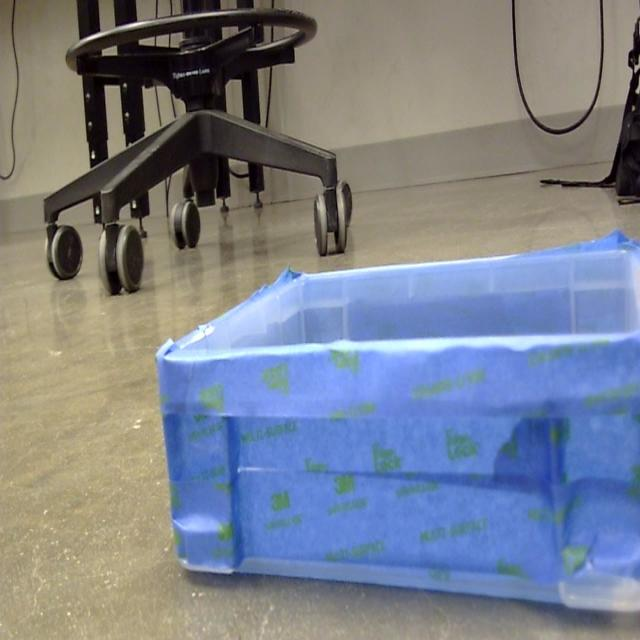bucket: (154, 234, 640, 618)
